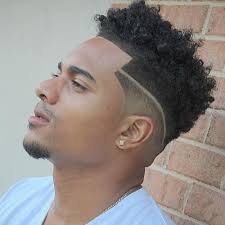black_male: (31, 25, 177, 199)
